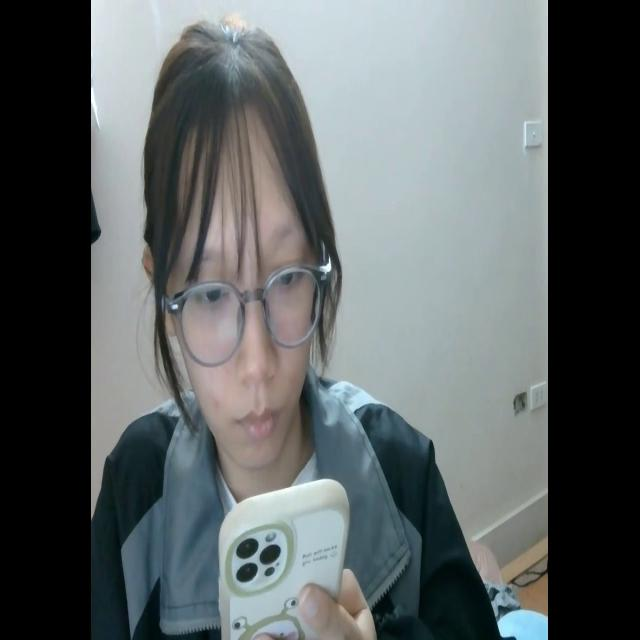phone: (218, 469, 349, 640)
student: (96, 13, 500, 640)
